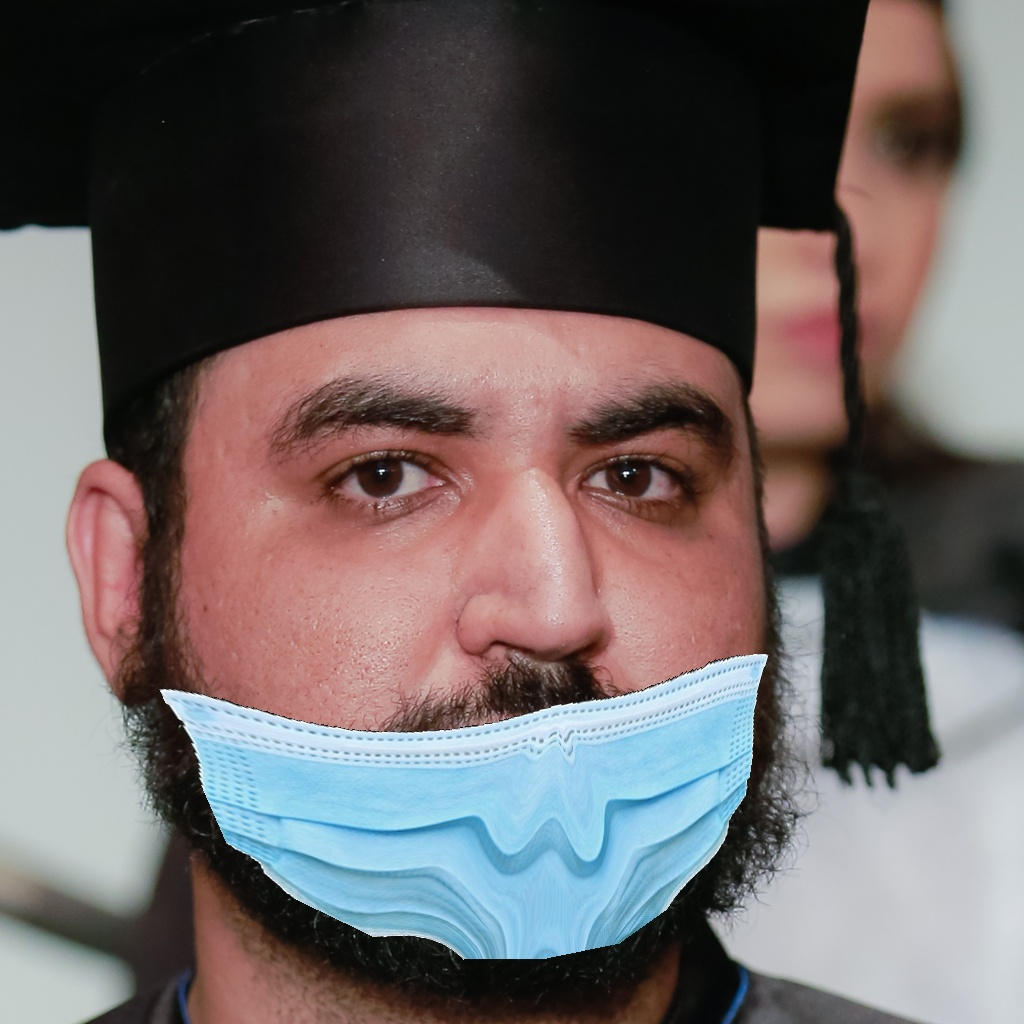mascarilla_mal_puesta: (129, 375, 824, 965)
